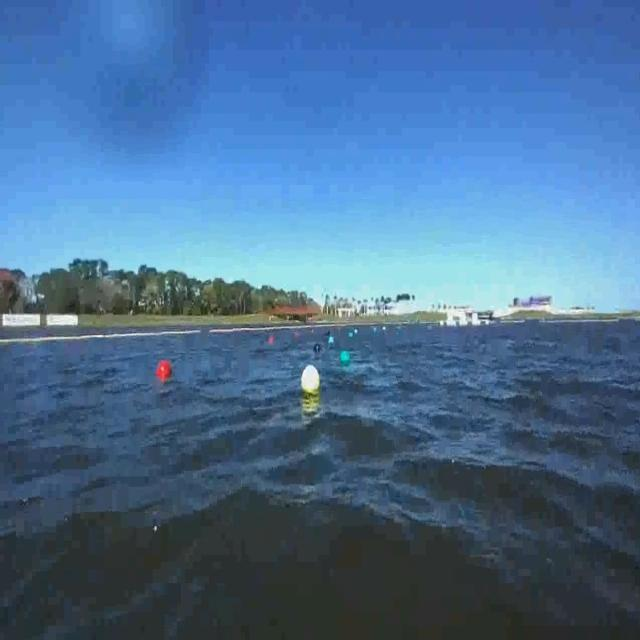black-buoy: (314, 346, 321, 356)
green-buoy: (341, 350, 352, 366)
red-buoy: (156, 360, 172, 380)
yellow-buoy: (299, 364, 319, 394)
